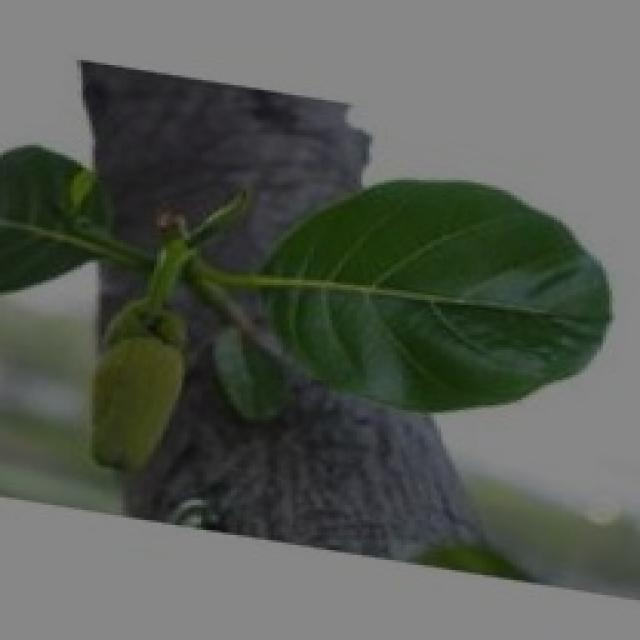Fruit: (56, 315, 206, 497)
